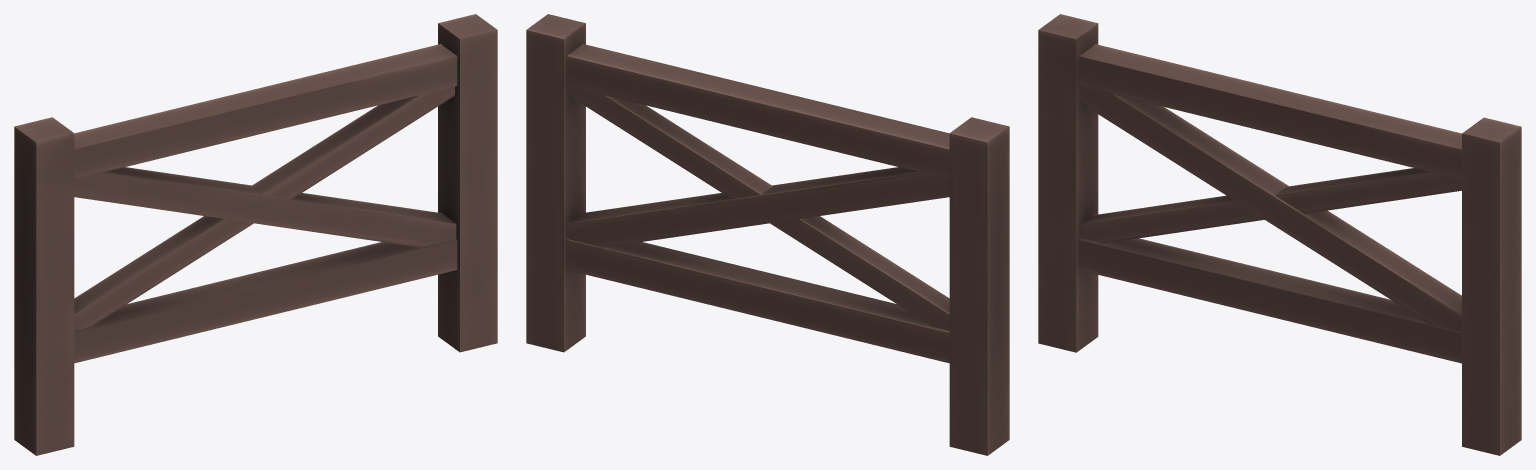
File: Fence_3.fbx
3 renders of one model, left to right at view 1: azimuth 30°, elevation 25°; view 2: azimuth 150°, elevation 25°; view 3: azimuth 330°, elevation 25°, orthographic.
Parts seen in each view (by area): view 1: Fence_3; view 2: Fence_3; view 3: Fence_3.
Boxes of the visible parts, left/top/right/bottom form: Fence_3: left=14, top=14, right=497, bottom=455; Fence_3: left=526, top=14, right=1009, bottom=455; Fence_3: left=1038, top=14, right=1521, bottom=455.
Size of the model in its own units: 61.18 by 39.69 by 5.06.
